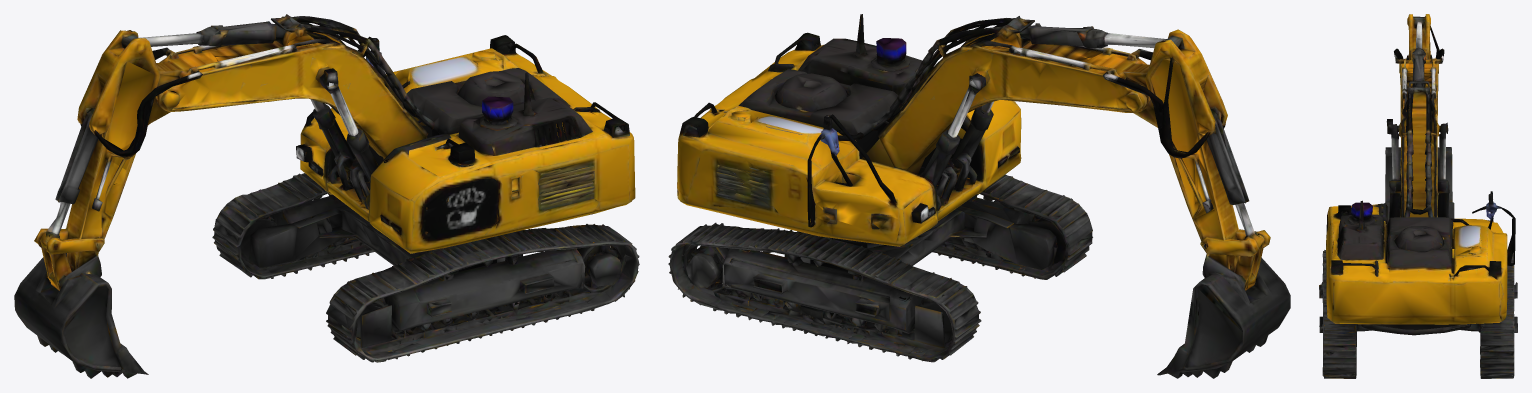
File: excavator-standard.glb
The picture shows the model from 3 angles, left to right: view 1: azimuth 30°, elevation 25°; view 2: azimuth 150°, elevation 25°; view 3: azimuth 270°, elevation 25°; orthographic projection. The views are drawn at different scales.
Visible parts, largest first — view 1: geometry_0; view 2: geometry_0; view 3: geometry_0.
Boxes of the visible parts, x1,y1,x2,y2 form: geometry_0: [14, 14, 639, 378]; geometry_0: [668, 14, 1290, 378]; geometry_0: [1319, 14, 1517, 378].
Bounding box in the file's own units: 1 × 0.5752 × 0.4591.
1 material, 1 textured.
